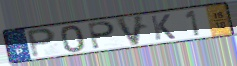0: (59, 24, 87, 54)
1: (185, 9, 202, 37)
K: (149, 13, 178, 41)
P: (25, 27, 58, 60), (87, 20, 117, 50)
V: (114, 14, 147, 48)
